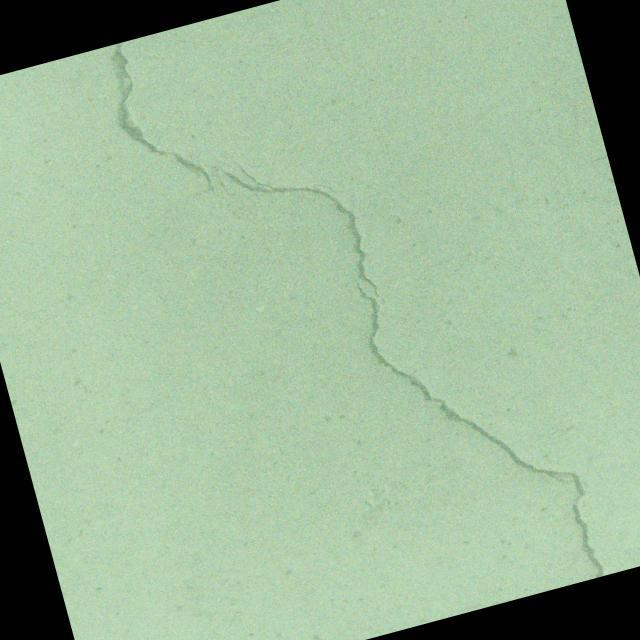crack: (209, 86, 609, 640), (97, 28, 218, 215), (244, 189, 280, 254)
